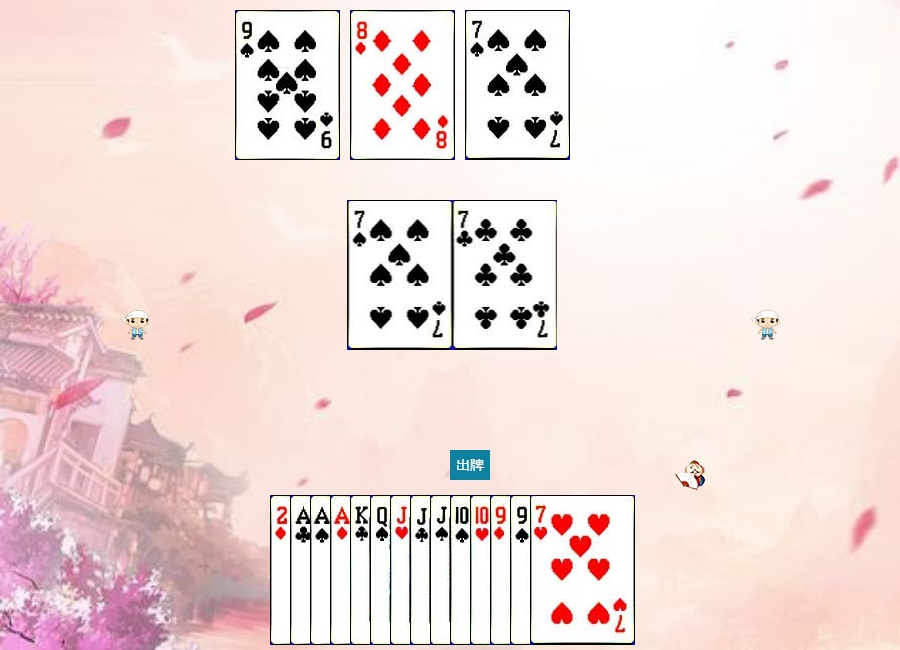10~3: (470, 495, 575, 645)
10~4: (450, 495, 555, 645)
11~2: (410, 495, 515, 645)
11~3: (390, 495, 495, 645)
11~4: (430, 495, 535, 645)
12~4: (370, 495, 475, 645)
13~2: (350, 495, 455, 645)
14~1: (330, 495, 435, 645)
14~2: (290, 495, 395, 645)
14~4: (310, 495, 415, 645)
15~1: (270, 495, 375, 645)
7~2: (453, 200, 558, 350)
7~3: (530, 495, 635, 645)
7~4: (465, 10, 570, 160), (348, 200, 453, 350)
8~1: (350, 10, 455, 160)
9~1: (490, 495, 595, 645)
9~4: (235, 10, 340, 160), (510, 495, 615, 645)
